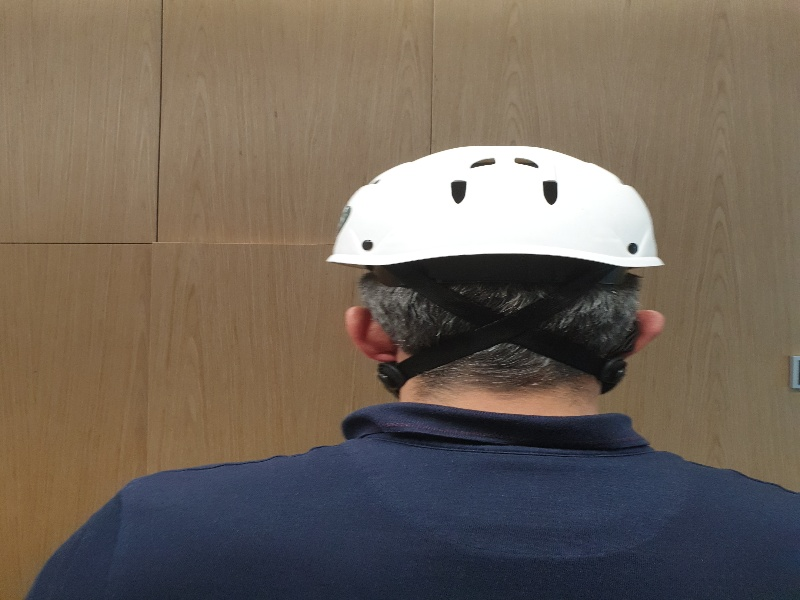Baret: (335, 143, 664, 272)
